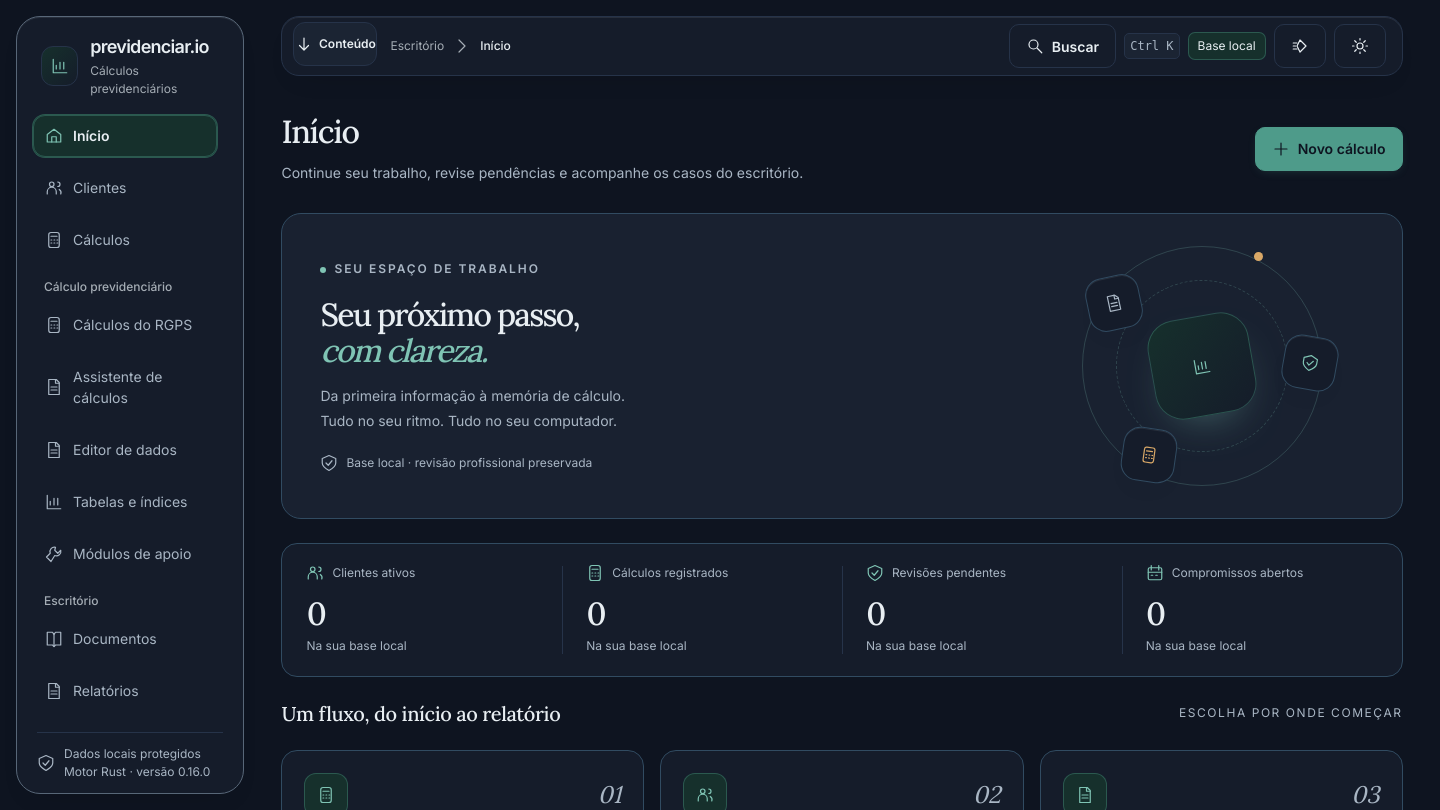
Test: desktop UI workflows with mocked IPC boundary › save error keeps the draft and reports a real failure
expect the heading "Início" is shown: met, box x1=281 y1=111 x2=359 y2=152
Step 1. Click the button "Novo cálculo" → (1329, 149), box x1=1255 y1=127 x2=1402 y2=171
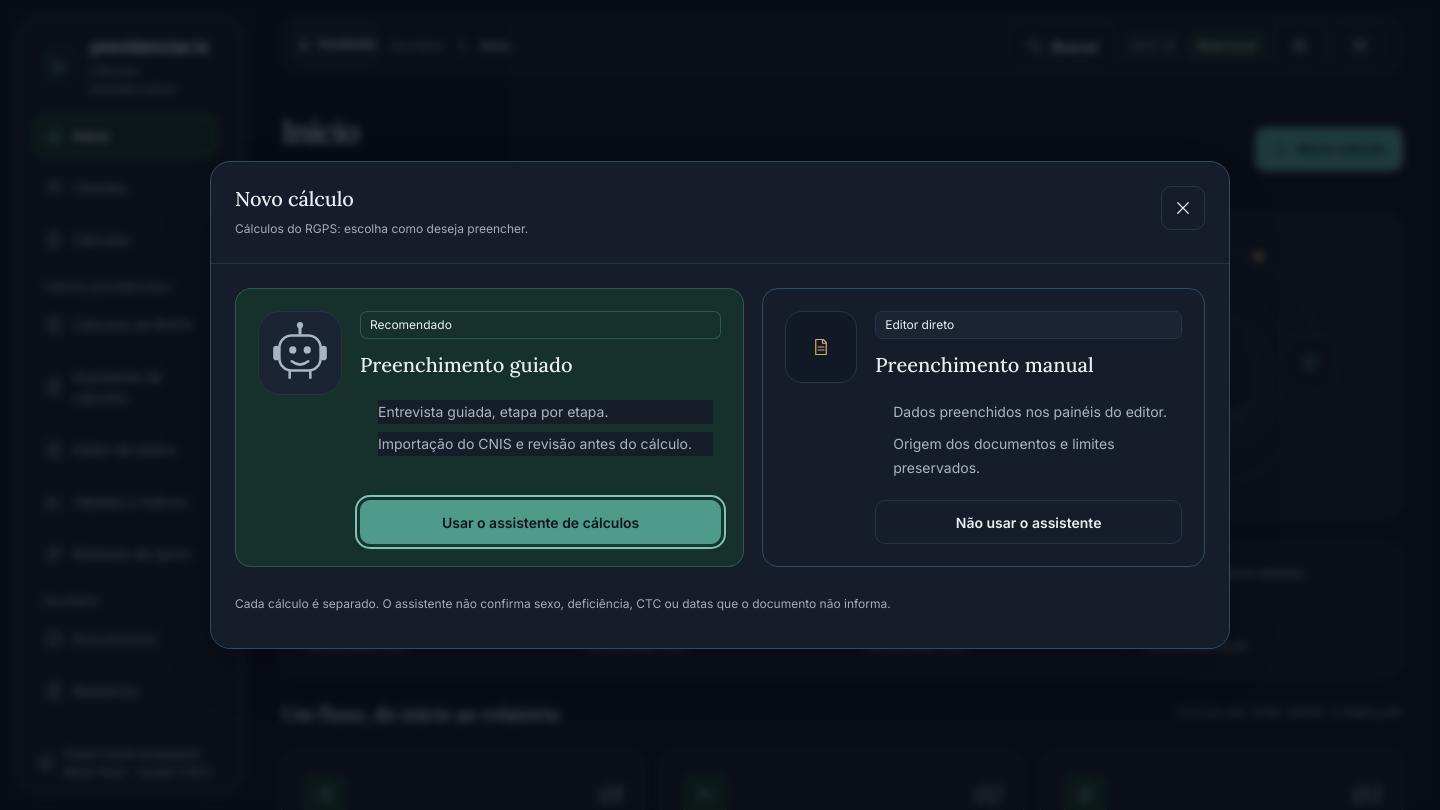
Step 2. Click the button "Não usar o assistente" → (1029, 522), box x1=875 y1=500 x2=1182 y2=544
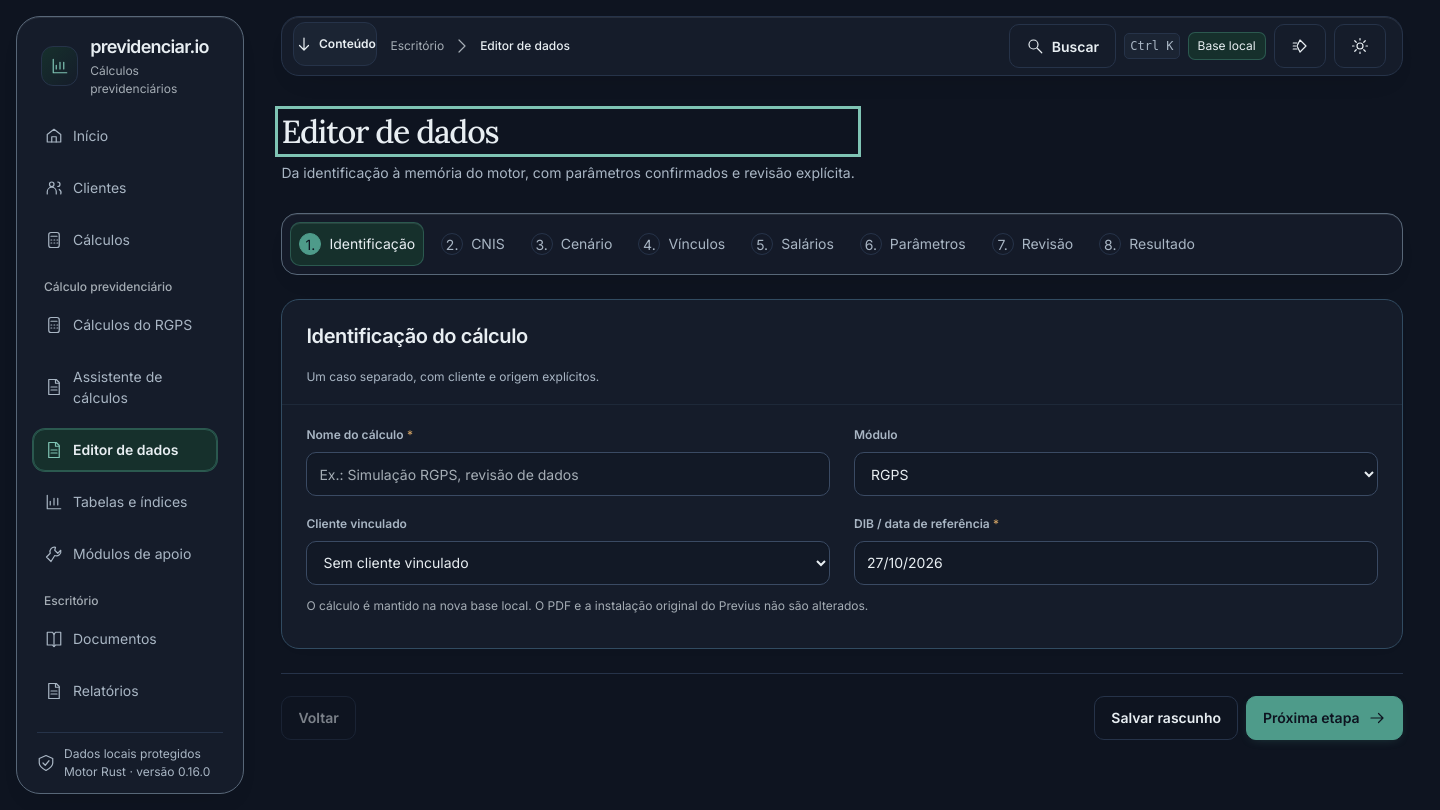
Step 3. Type "Caso sintético" into the field labelled "Nome do cálculo *" → (568, 474), box x1=306 y1=452 x2=830 y2=496
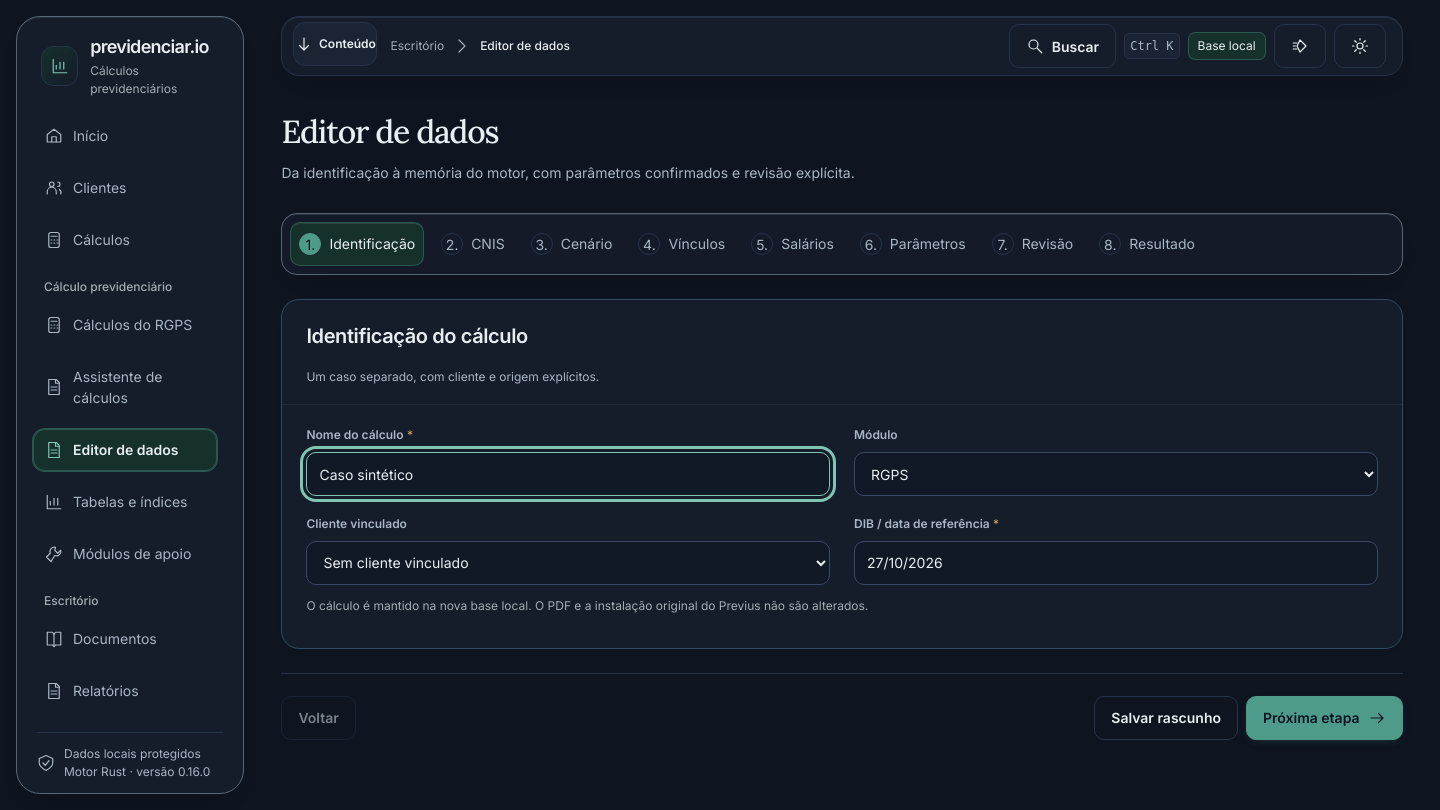
Step 4. Click the button "Salvar rascunho" → (1166, 718), box x1=1094 y1=696 x2=1238 y2=740
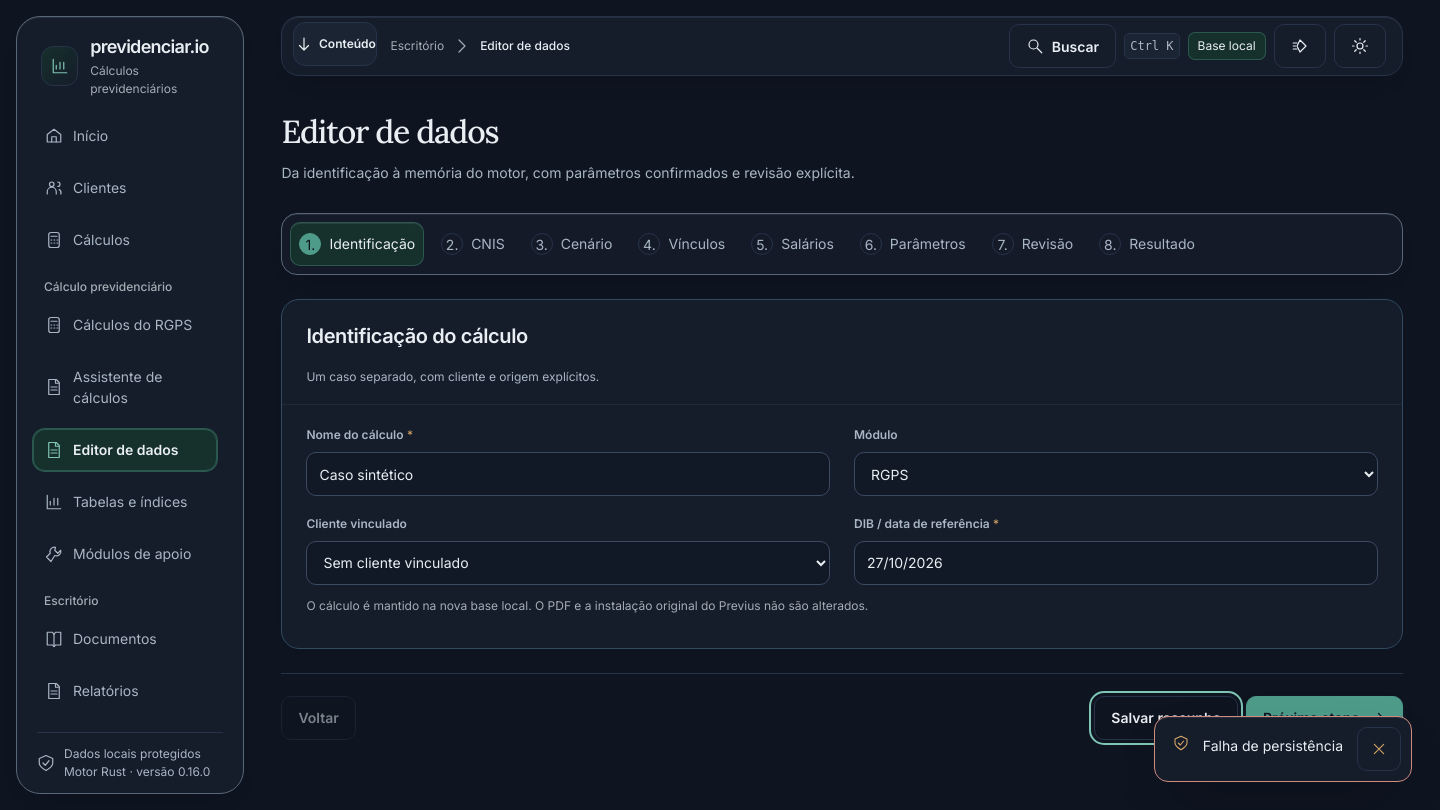
expect the message reads "Falha de persistência": met, box x1=1203 y1=737 x2=1343 y2=754
